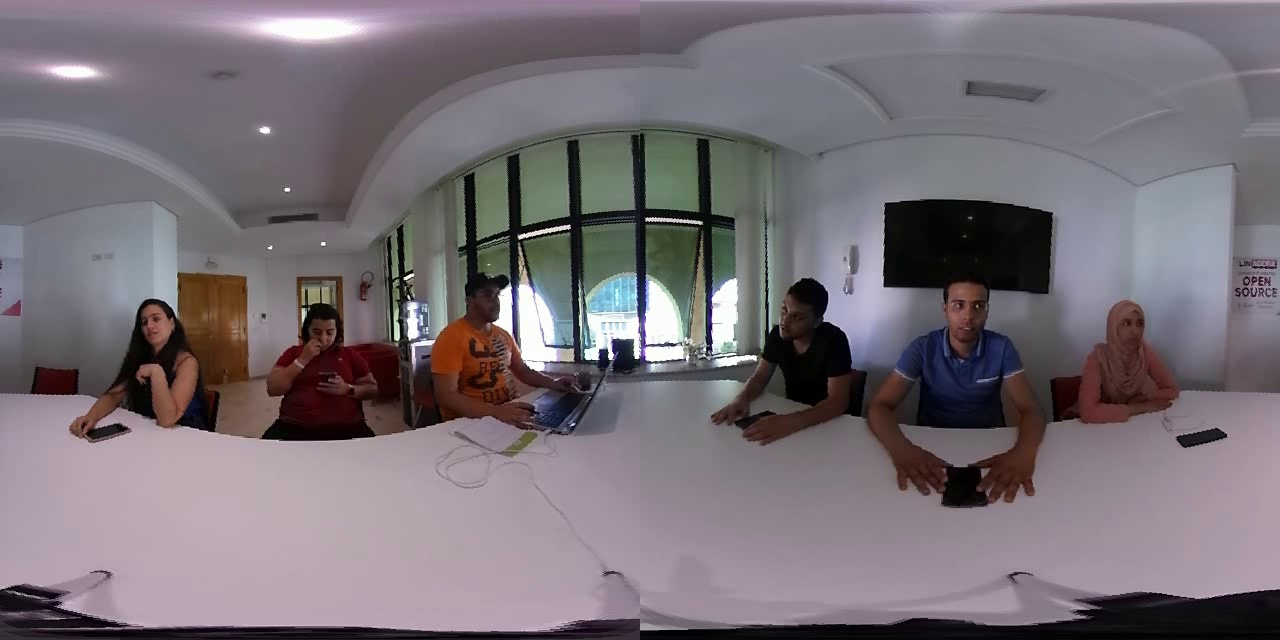person: (864, 272, 1053, 518), (707, 266, 857, 450), (430, 266, 576, 431), (73, 292, 212, 446), (258, 296, 386, 448), (1066, 292, 1191, 429)
